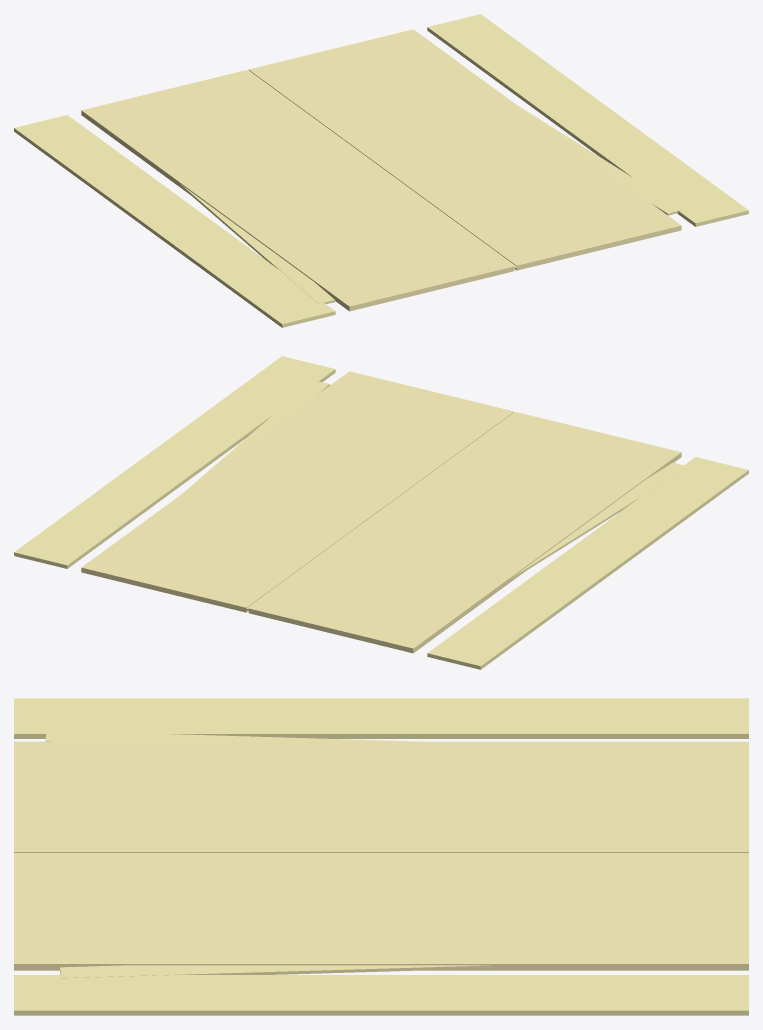
File: road_rural_crowned_lane.glb
3 views of the same model, one above another, from view 1: azimuth 30°, elevation 25°; view 2: azimuth 150°, elevation 25°; view 3: azimuth 270°, elevation 25° (orthographic). The views are drawn at different scales.
Visible parts, largest first — view 1: lane_left, lane_right, shoulder_left, shoulder_right, berm_left, berm_right, crown_strip; view 2: lane_left, lane_right, shoulder_left, shoulder_right, berm_left, berm_right, crown_strip; view 3: lane_right, lane_left, shoulder_right, shoulder_left, berm_right, berm_left, crown_strip.
Boxes of the visible parts, x1,y1,x2,y2 form: lane_left: (81, 70, 514, 311); lane_right: (248, 29, 681, 270); shoulder_left: (14, 115, 335, 327); shoulder_right: (427, 14, 748, 226); berm_left: (179, 184, 335, 303); berm_right: (519, 106, 682, 215); crown_strip: (247, 70, 516, 271); lane_left: (248, 412, 681, 653); lane_right: (81, 371, 514, 612); shoulder_left: (427, 457, 748, 669); shoulder_right: (14, 356, 335, 568); berm_left: (511, 462, 688, 579); berm_right: (184, 380, 329, 491); crown_strip: (233, 412, 515, 613); lane_right: (14, 853, 748, 970); lane_left: (14, 741, 748, 852); shoulder_right: (14, 975, 748, 1015); shoulder_left: (14, 698, 748, 738); berm_right: (60, 965, 494, 978); berm_left: (45, 730, 418, 741); crown_strip: (14, 853, 748, 853).
Size of the model in its own units: 4.02 by 0.04 by 4.
